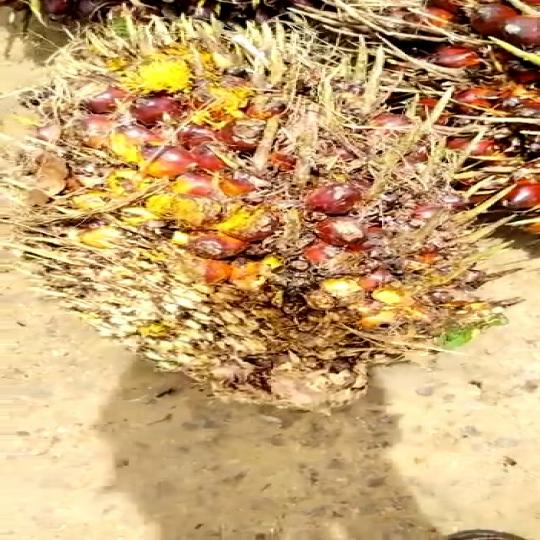masak: (16, 12, 528, 426)
